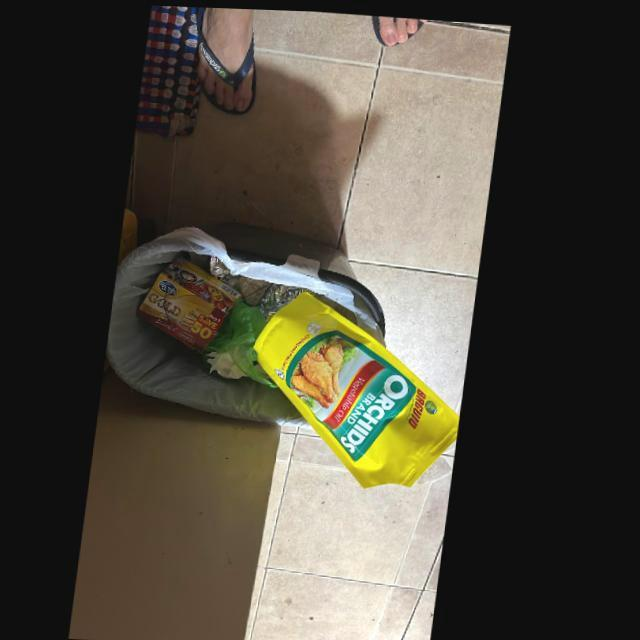aluminum: (215, 255, 311, 319)
cardboard: (140, 252, 245, 351)
food_wrapper: (258, 288, 467, 484), (141, 252, 240, 351)
paper: (214, 350, 247, 377)
plastic_bag: (213, 293, 286, 386)
